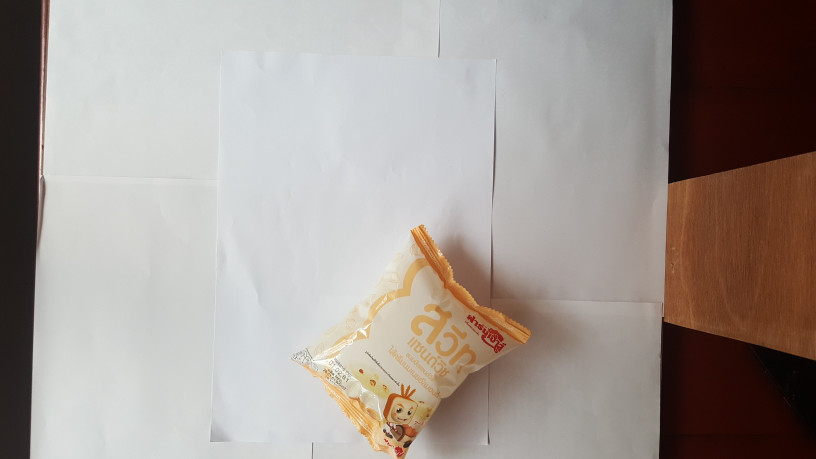farmhouse-sweetsandwich-almond: (287, 218, 534, 459)
